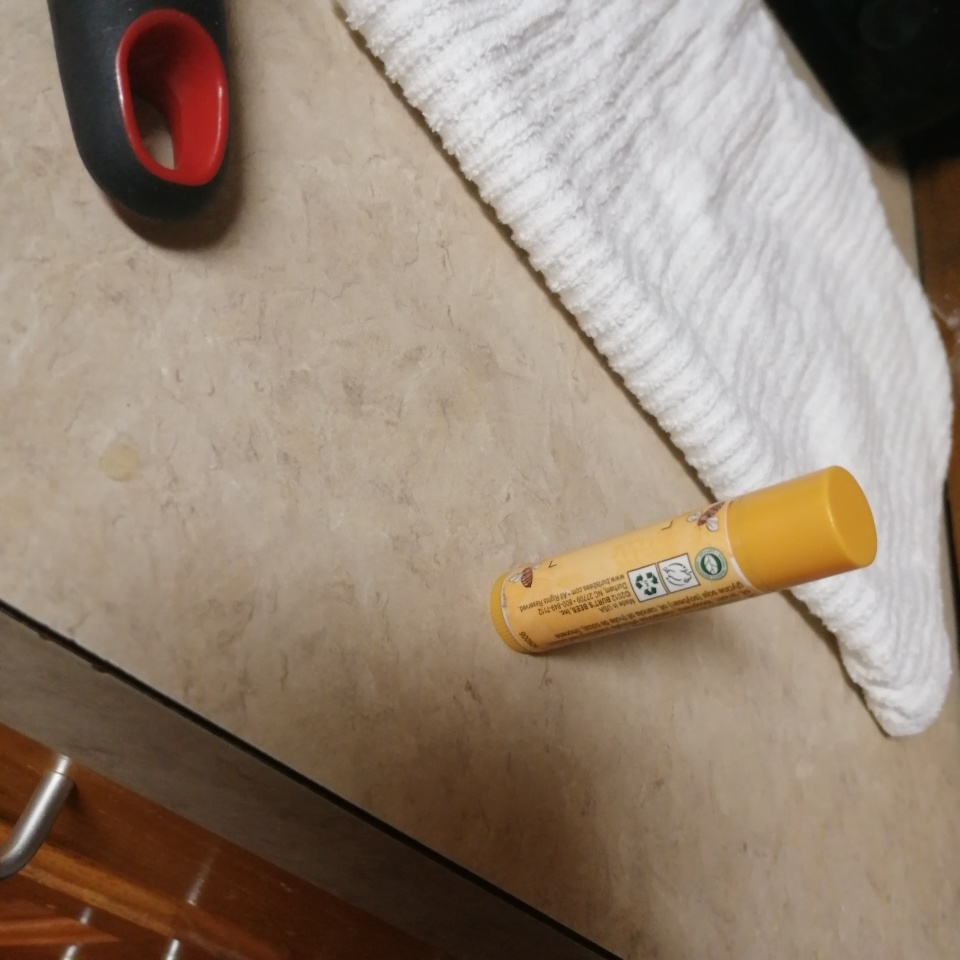chapstick: (490, 464, 881, 656)
